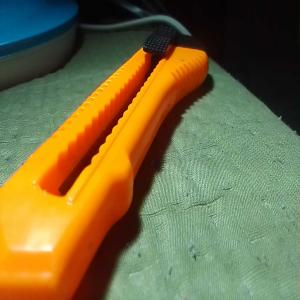estilete: (0, 22, 209, 300)
